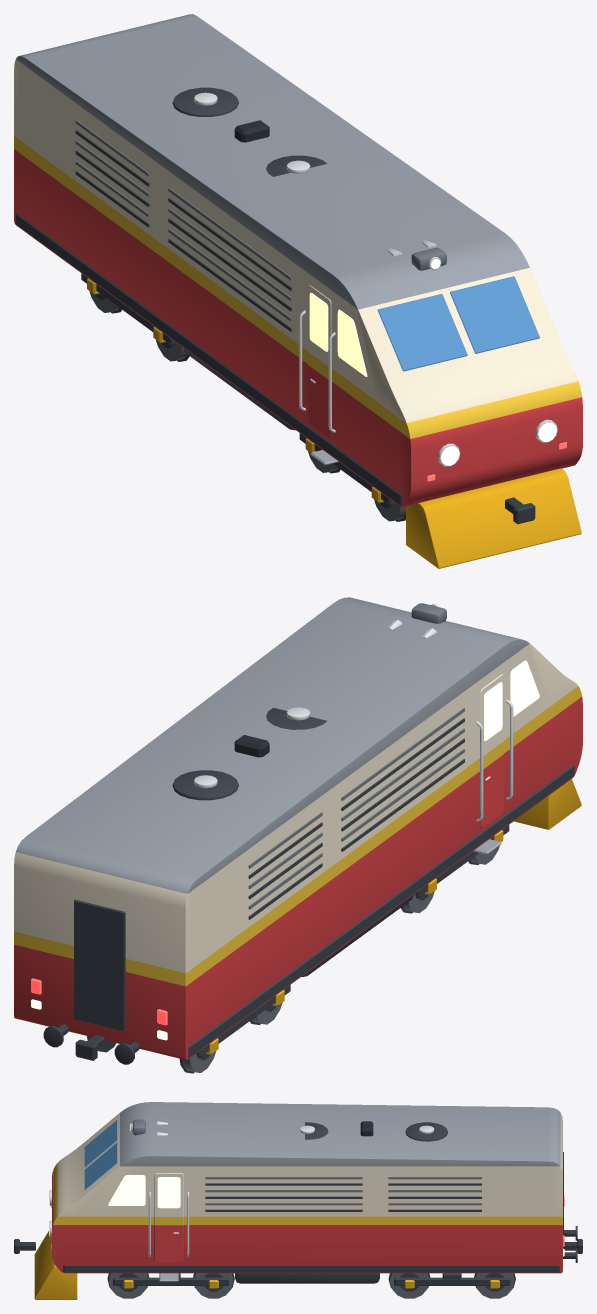
File: trem_locomotiva.glb
3 renders of one model, top to bottom at view 1: azimuth 30°, elevation 25°; view 2: azimuth 150°, elevation 25°; view 3: azimuth 270°, elevation 25°, orthographic. The views are drawn at different scales.
Parts seen in each view (by area): view 1: trem_locomotiva, porta_1; view 2: trem_locomotiva, porta_1, roda_4; view 3: trem_locomotiva, porta_2, roda_1, roda_3, roda_2, roda_4.
Boxes of the visible parts, x1,y1,x2,y2 form: trem_locomotiva: [14, 14, 582, 568]; porta_1: [308, 285, 331, 438]; trem_locomotiva: [14, 597, 582, 1064]; porta_1: [480, 674, 503, 828]; roda_4: [87, 1036, 216, 1073]; trem_locomotiva: [14, 1102, 582, 1299]; porta_2: [154, 1173, 183, 1262]; roda_1: [107, 1273, 149, 1298]; roda_3: [388, 1273, 430, 1298]; roda_2: [193, 1273, 234, 1298]; roda_4: [474, 1273, 515, 1298].
Bounding box in the file's own units: 3.2 × 4.16 × 13.36.
Materials: 5 (1 with a texture image).
